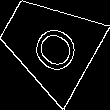O_NW: (18, 12, 79, 75)
